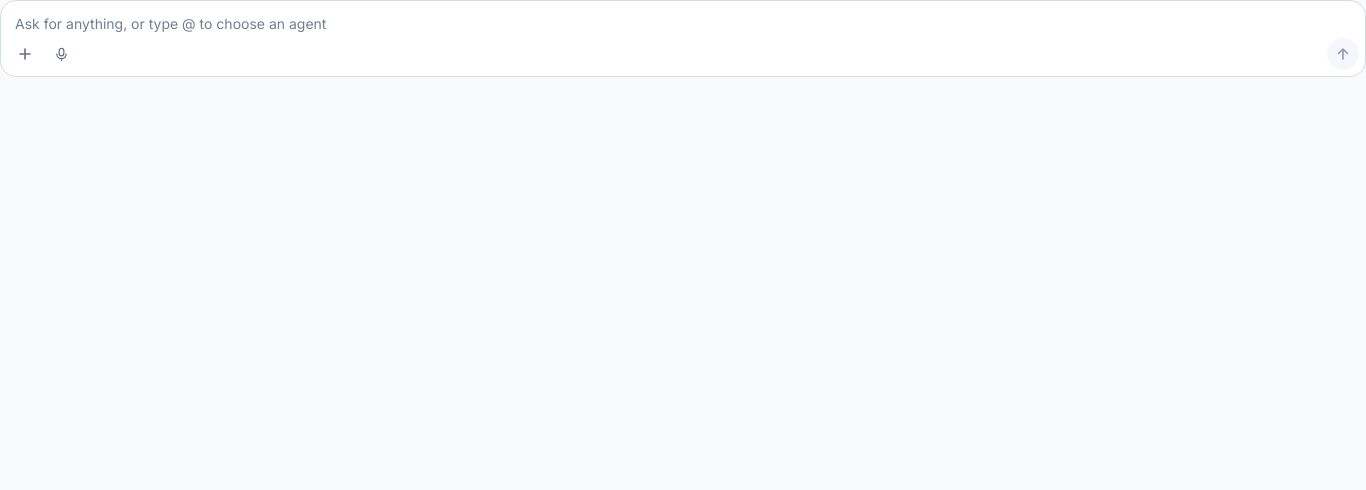
the + menu › opens a list with Right, searches it, goes back with Escape, and closes on a press outside
The image size is (1366, 490).
Click the button named "Add to message" at coordinates (25, 54), box [9,38,41,70]
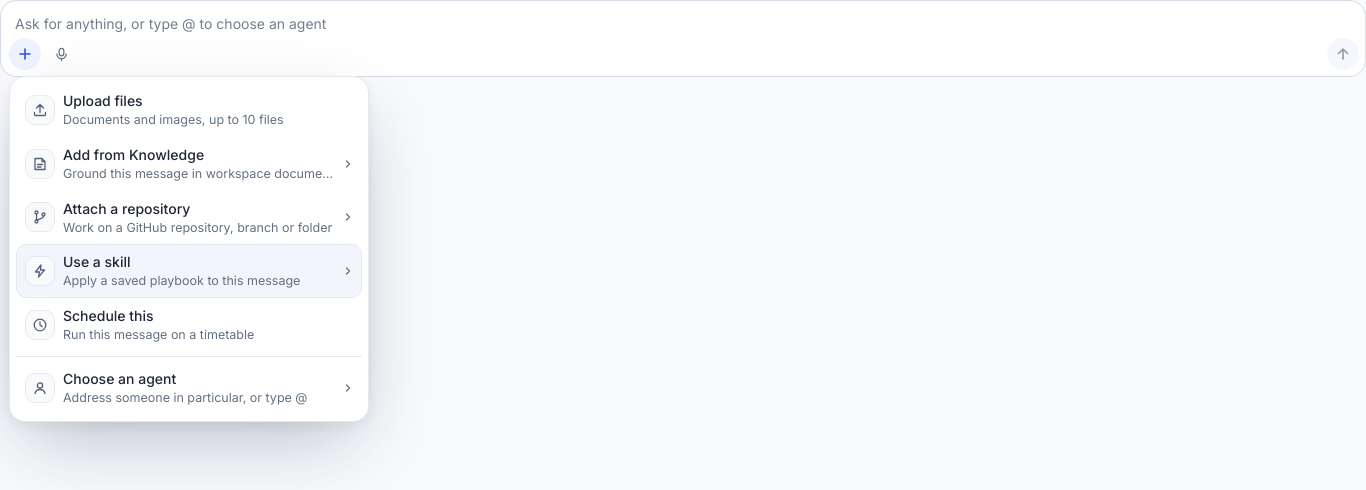
Press ArrowRight in the menu item "Use a skill Apply a saved playbook to this message", box [16,244,362,298]
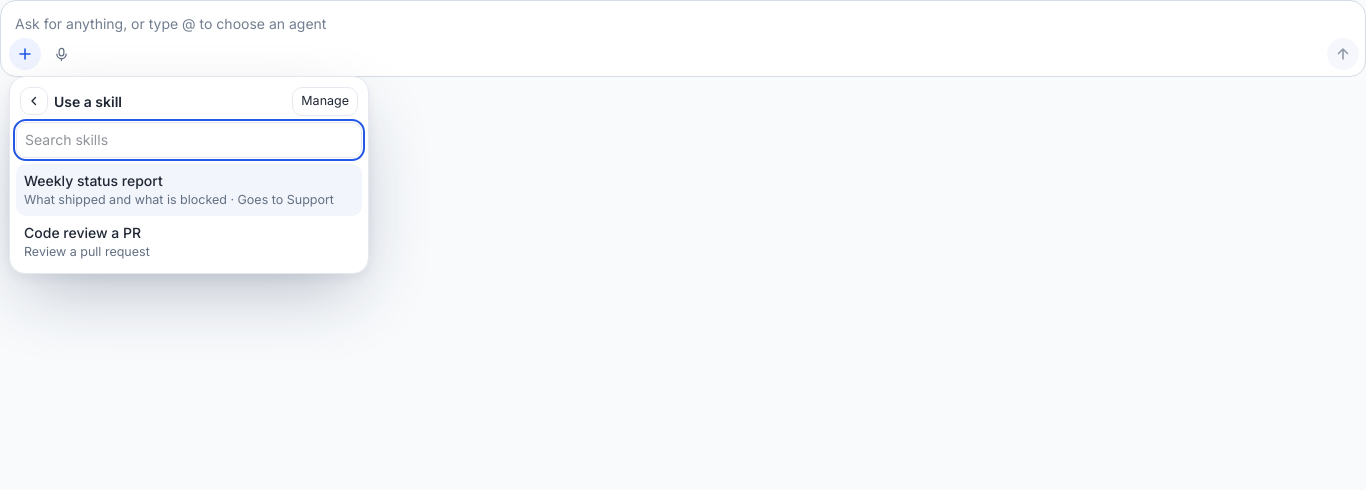
Type "review" into the dropdown labelled "skills" at coordinates (189, 140), box [16,122,362,158]
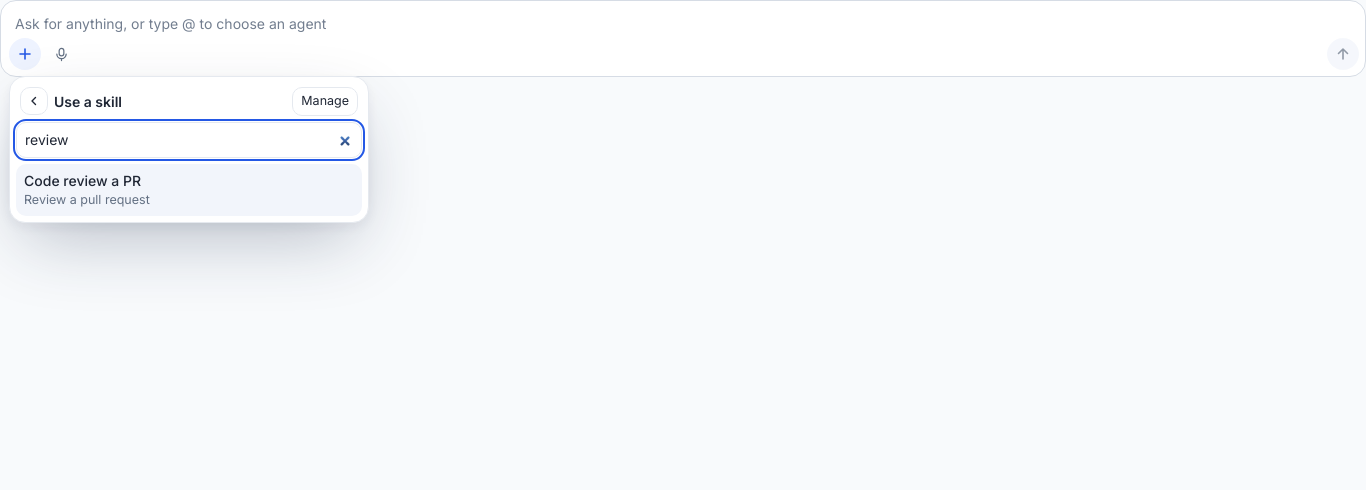
Press Escape in the dropdown named "skills", box [16,122,362,158]
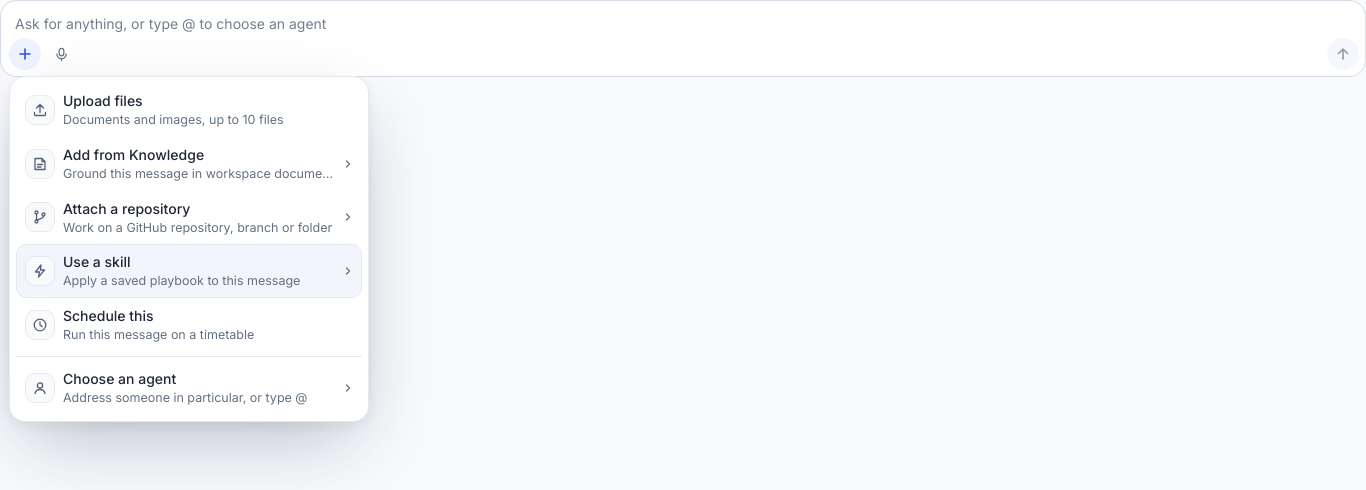
Expected: the menu named "Add to message" is shown, [16,83,362,414]
Press the mouse on the element that starts with "Upload files" at coordinates (683, 38), box [0,0,1365,77]
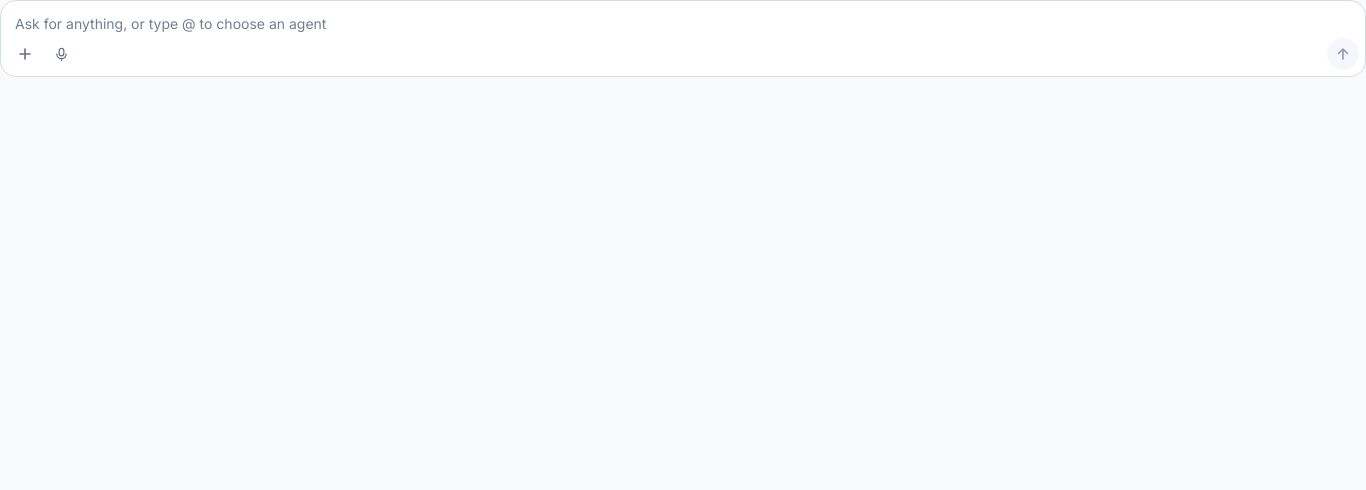
Expected: the menu is gone
